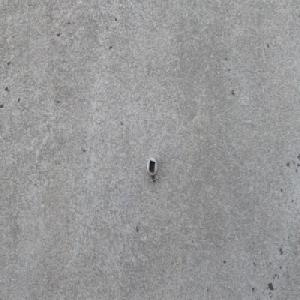MetalPart: (146, 156, 158, 184)
